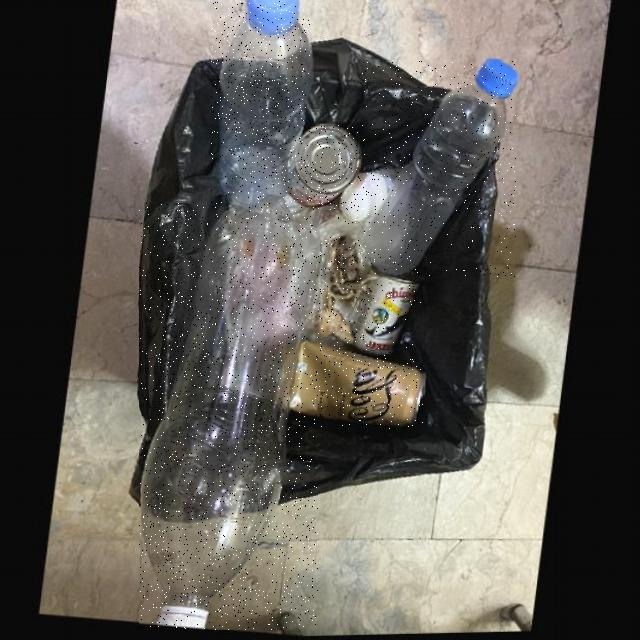biowaste: (318, 237, 370, 346), (338, 173, 385, 223)
metal: (288, 342, 424, 429), (349, 266, 421, 357), (285, 125, 358, 209)
plastic: (140, 202, 318, 630), (362, 61, 516, 277), (212, 1, 310, 214)
